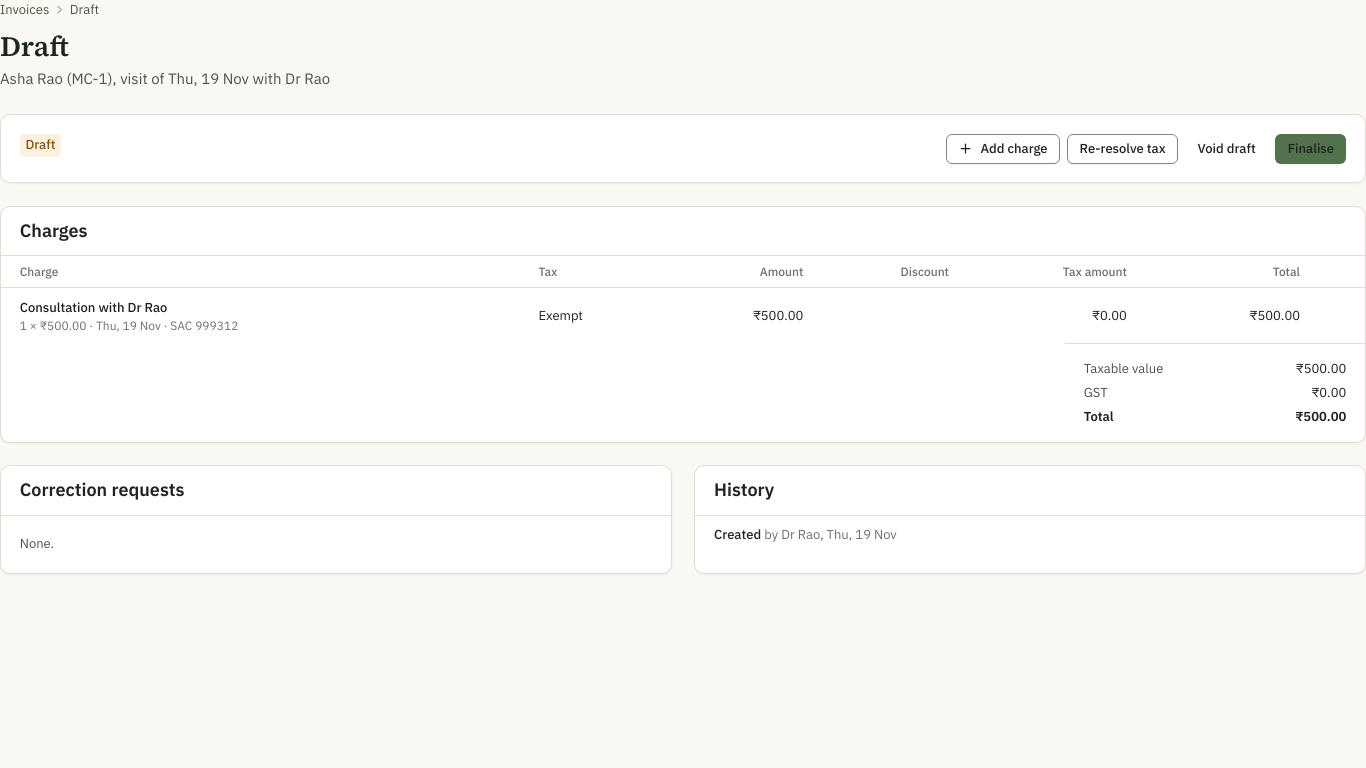
Test: billing screens › other charge needs a classification and a valid price before anything is sent
Click the button "Add charge" at (1003, 148), box [946,134,1060,164]
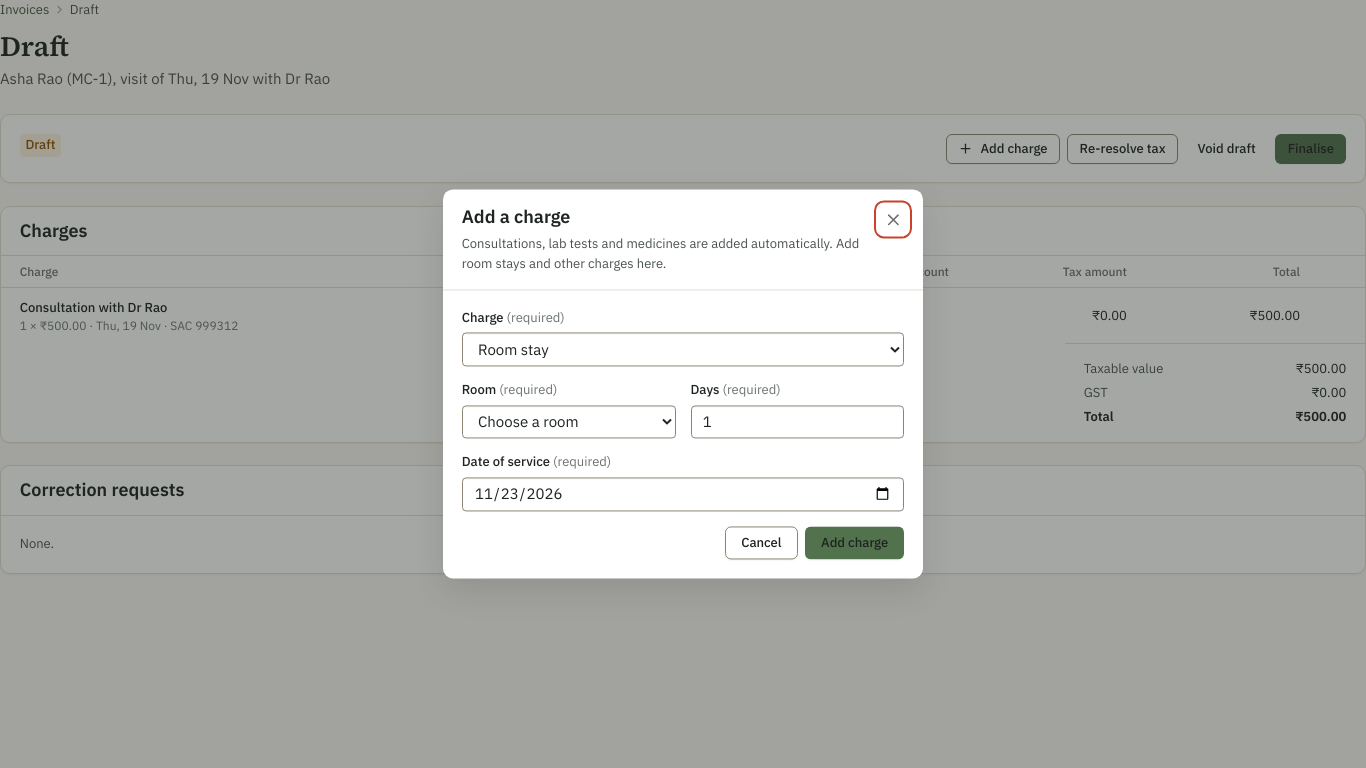
Select "Other charge" in the dropdown labelled "Charge (required)" at (683, 350), box [462,333,904,366]
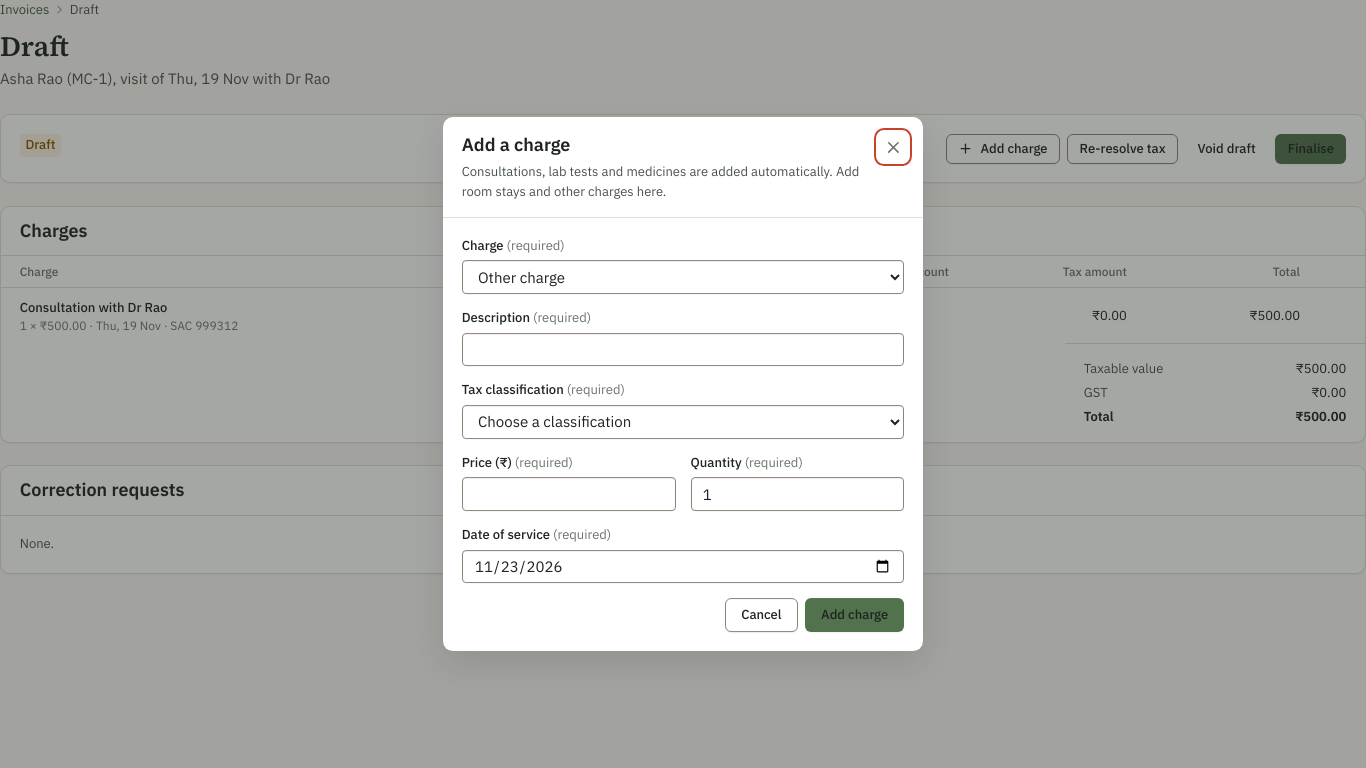
Type "Dressing" into the field labelled "Description (required)" at (683, 350), box [462,333,904,366]
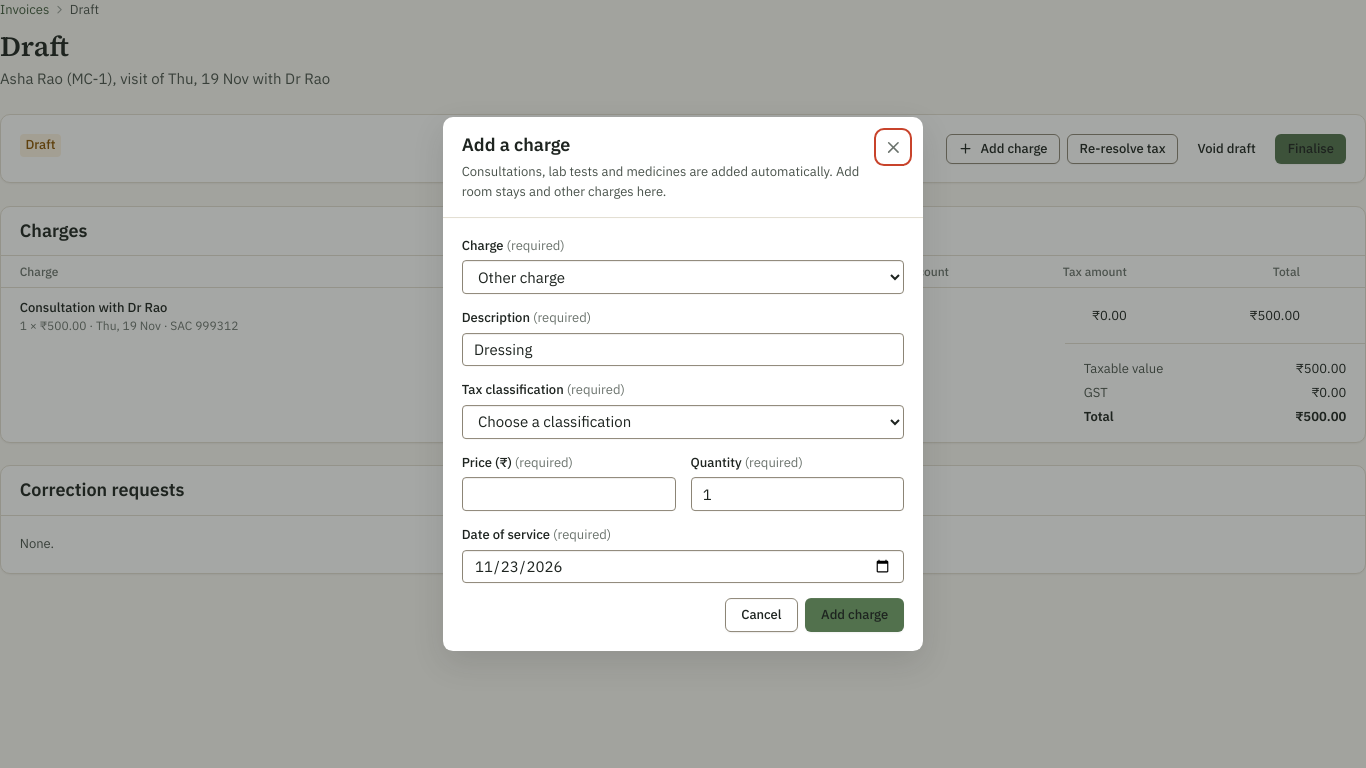
Type "12.345" into the field labelled "Price (₹) (required)" at (569, 494), box [462,477,676,511]
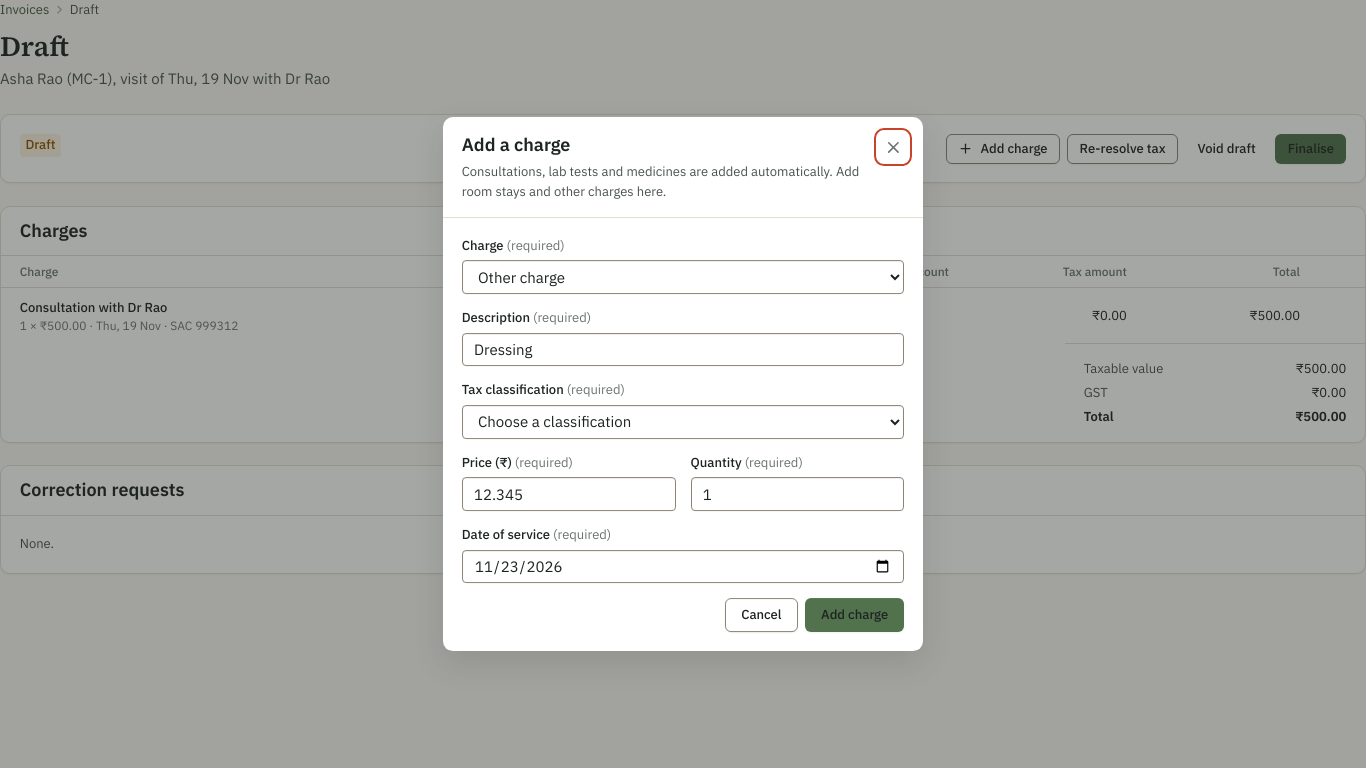
Click the button "Add charge" at (855, 615), box [805,598,904,632]
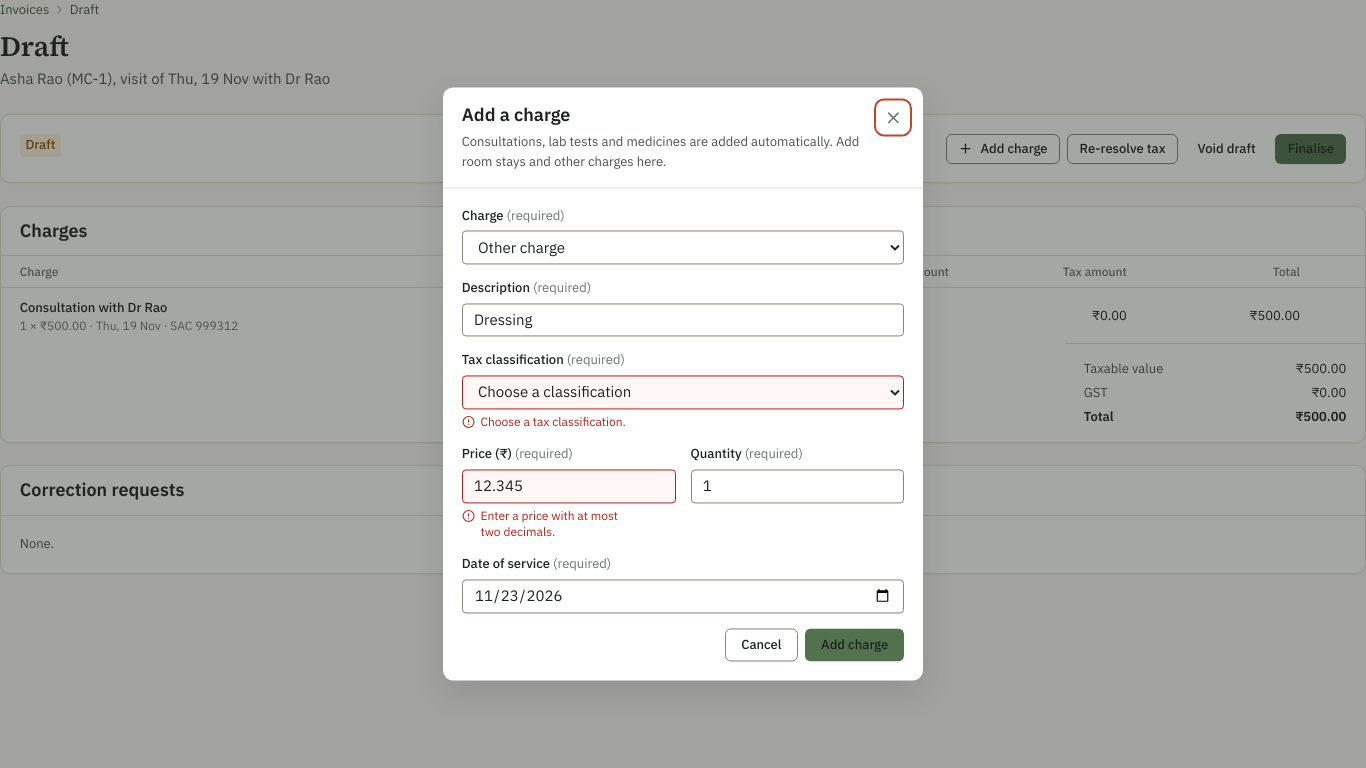
Check: the text "Choose a tax classification." is shown, box [462,415,626,430]
Check: the text "Enter a price with at most two decimals." is shown, box [462,509,618,540]
